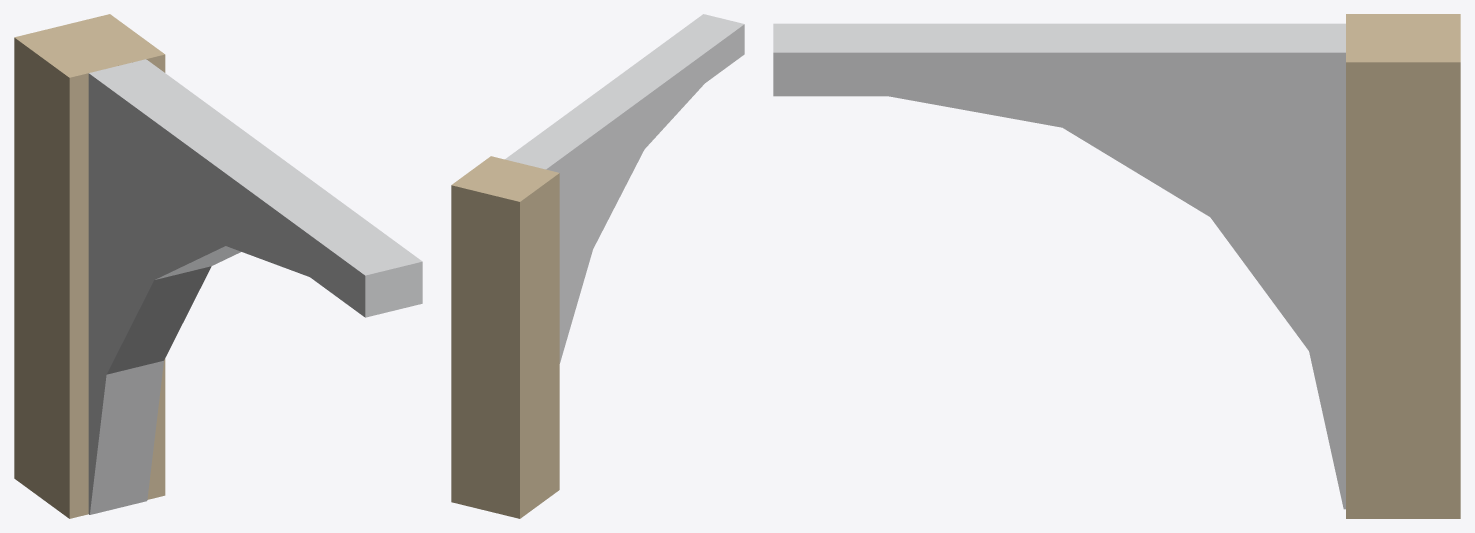
The model's file is Wood_Arch_01.glb.
3 renders of one model, left to right at view 1: azimuth 30°, elevation 25°; view 2: azimuth 150°, elevation 25°; view 3: azimuth 270°, elevation 25°, orthographic. The views are drawn at different scales.
Visible parts, largest first — view 1: Wood_Arch_01; view 2: Wood_Arch_01; view 3: Wood_Arch_01.
Boxes of the visible parts, x1,y1,x2,y2 form: Wood_Arch_01: [14, 14, 422, 518]; Wood_Arch_01: [451, 14, 744, 518]; Wood_Arch_01: [773, 14, 1460, 518].
Bounding box in the file's own units: 0.4999 × 2.2 × 3.
